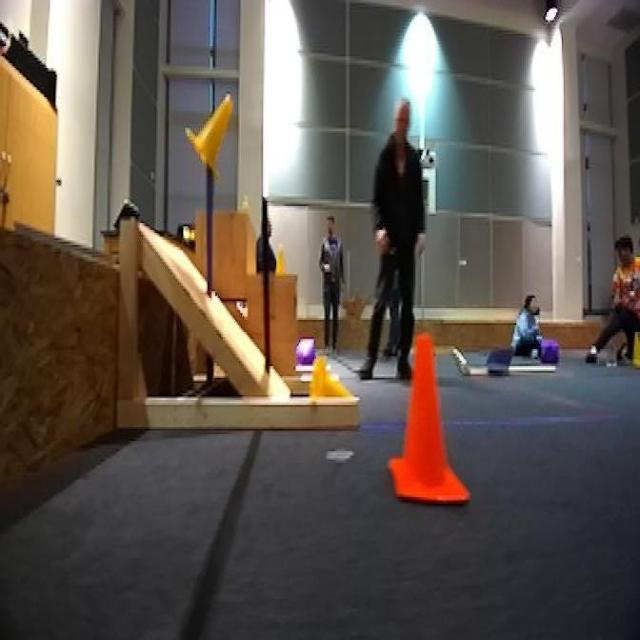frc_cone: (185, 94, 228, 182), (302, 346, 352, 405), (270, 247, 294, 289), (627, 325, 639, 375)
frc_cube: (534, 337, 558, 364), (292, 336, 314, 364)
